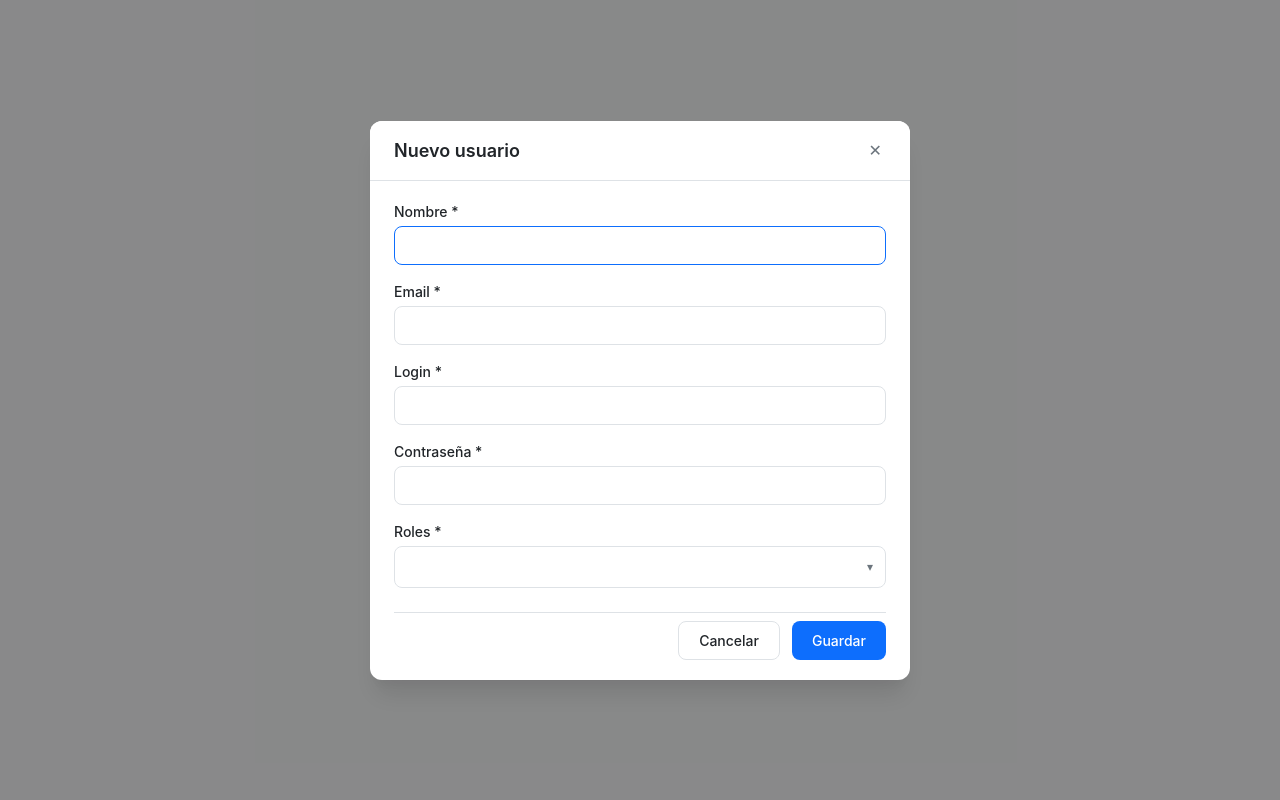
Test: RbacUserModal › surfaces the backend message verbatim when the server rejects with PASSWORD_POLICY
Type "Juan Mosca" into the field labelled "Nombre *" at (640, 245), box [394,226,886,264]
Type "juanmosca@ipnext.net.ar" into the field labelled "Email *" at (640, 325), box [394,306,886,344]
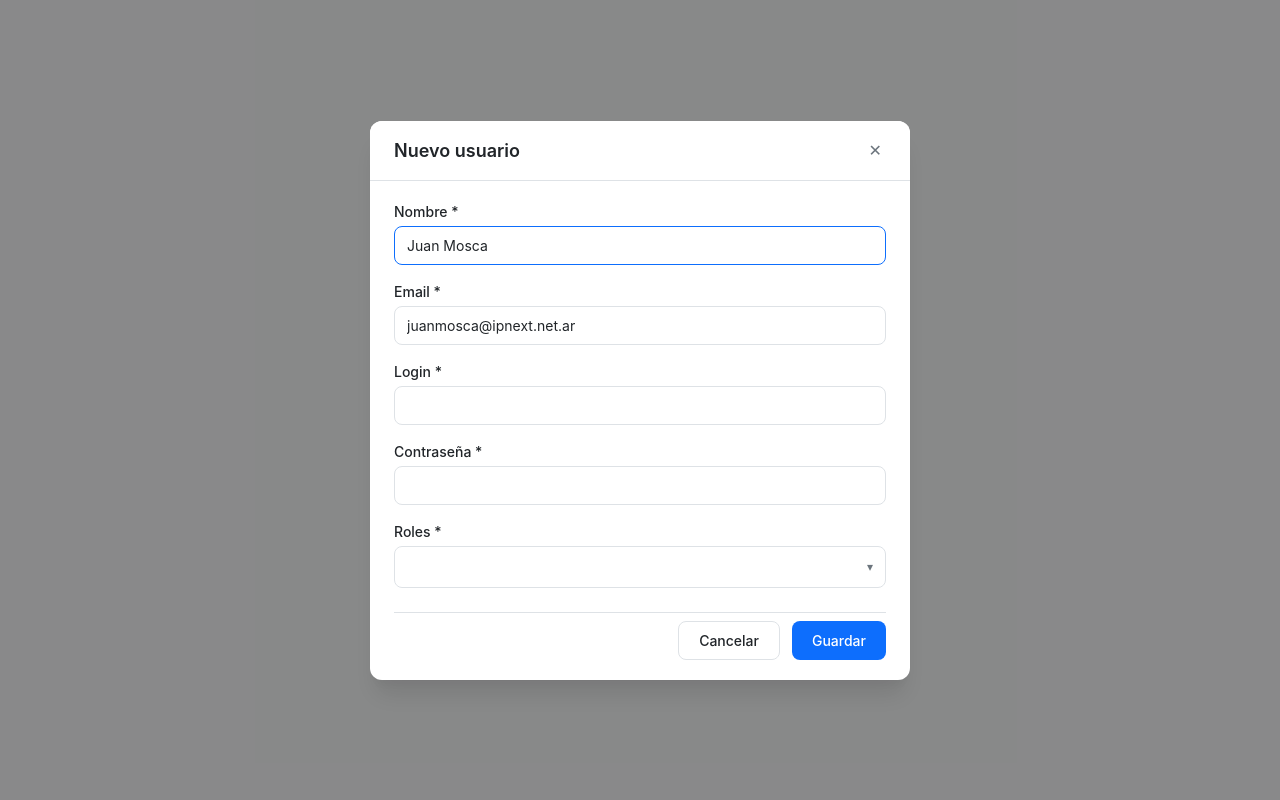
Type "JuanM" into the field labelled "Login *" at (640, 405), box [394,386,886,424]
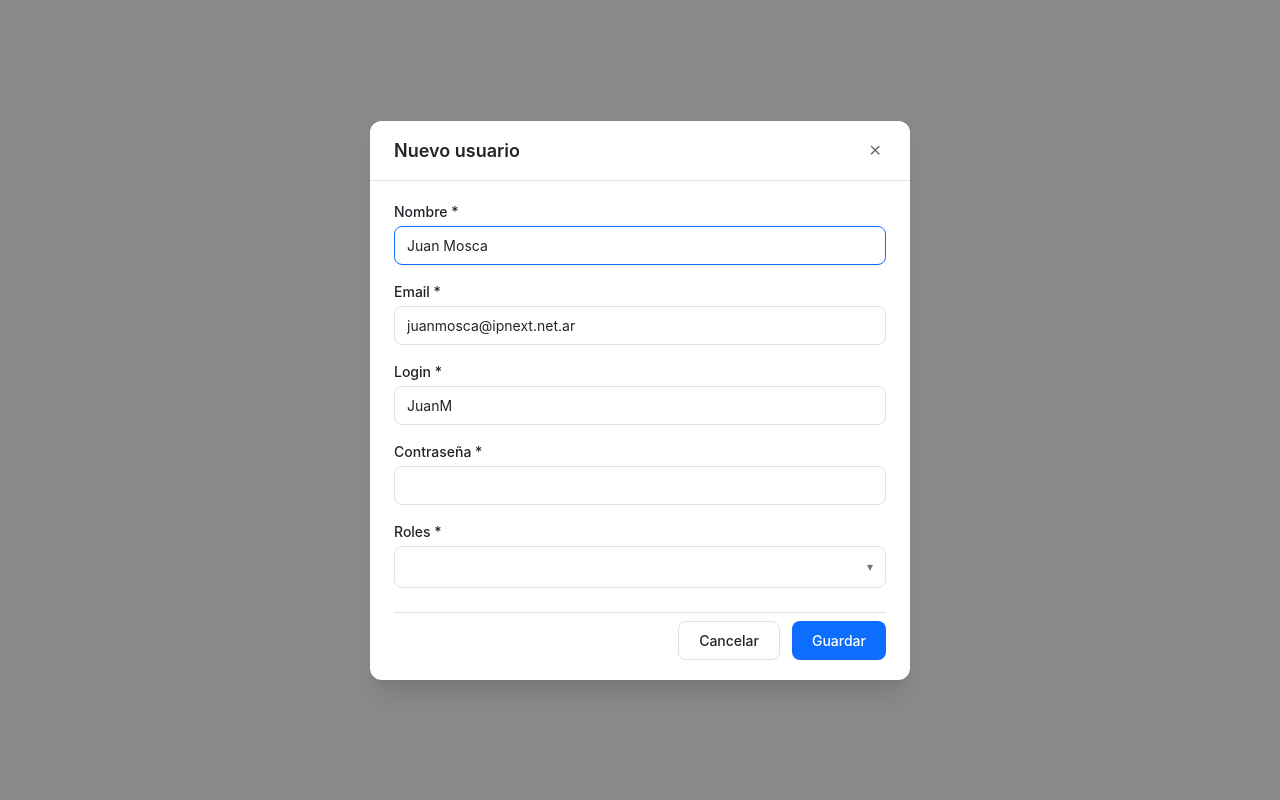
Type "Password123" into the password field labelled "Contraseña *" at (640, 485), box [394,466,886,504]
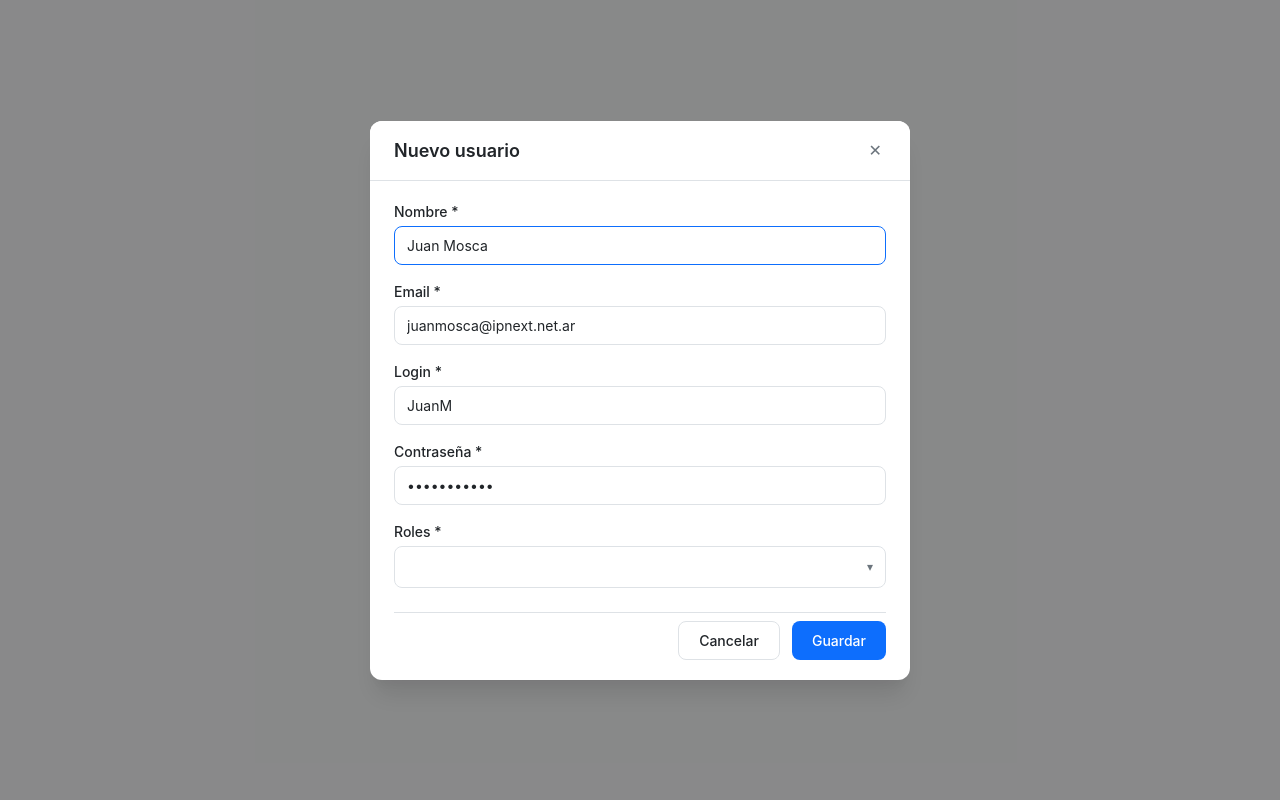
Click the button named "seleccionar roles" at (870, 566), box [863,558,877,576]
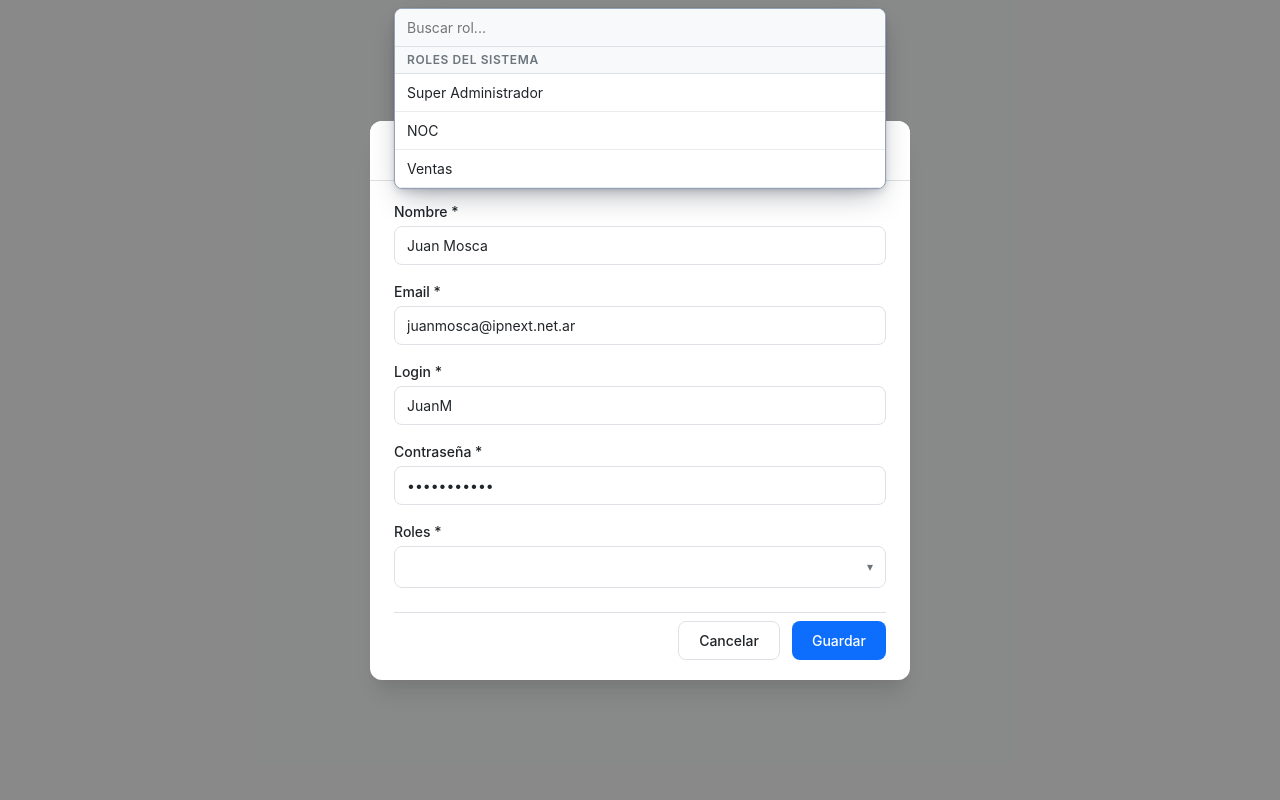
Click the option "NOC" at (423, 130), box [395,112,885,150]
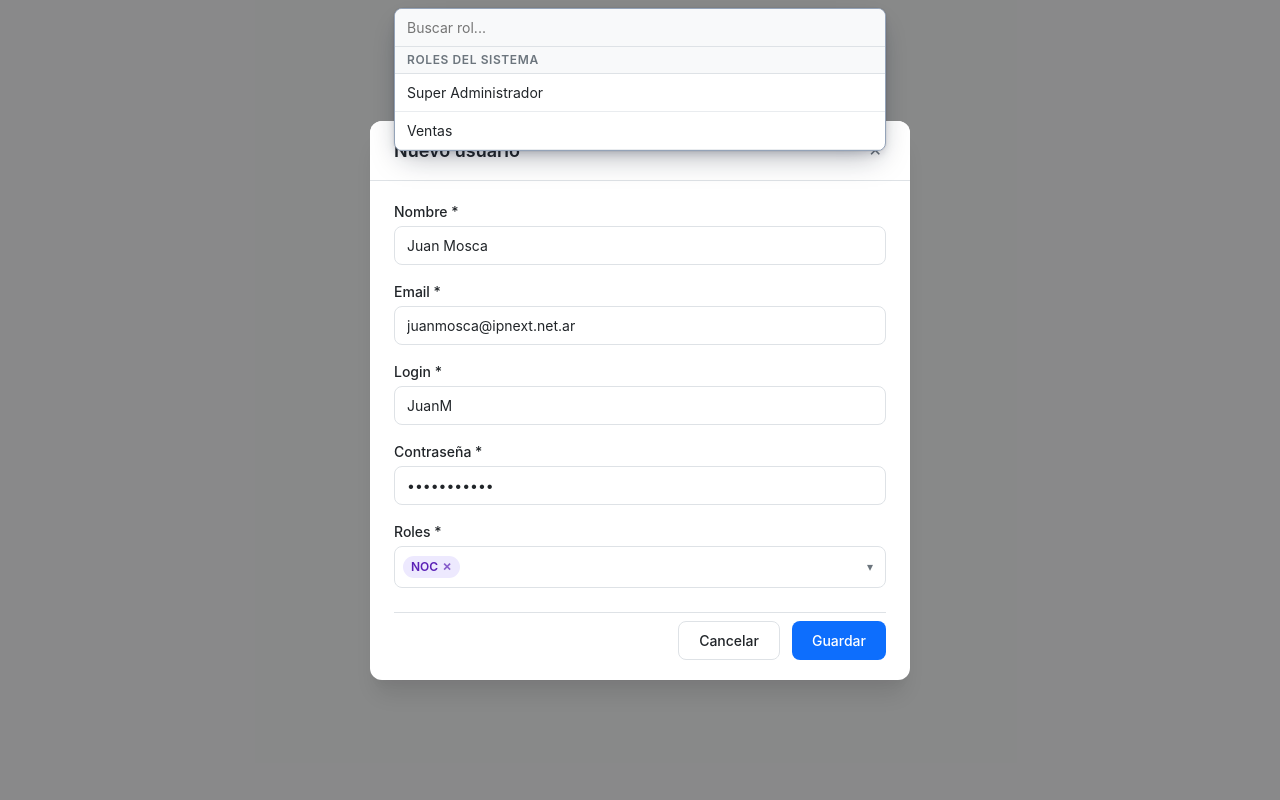
Click the button "Guardar" at (839, 640), box [792,620,886,660]
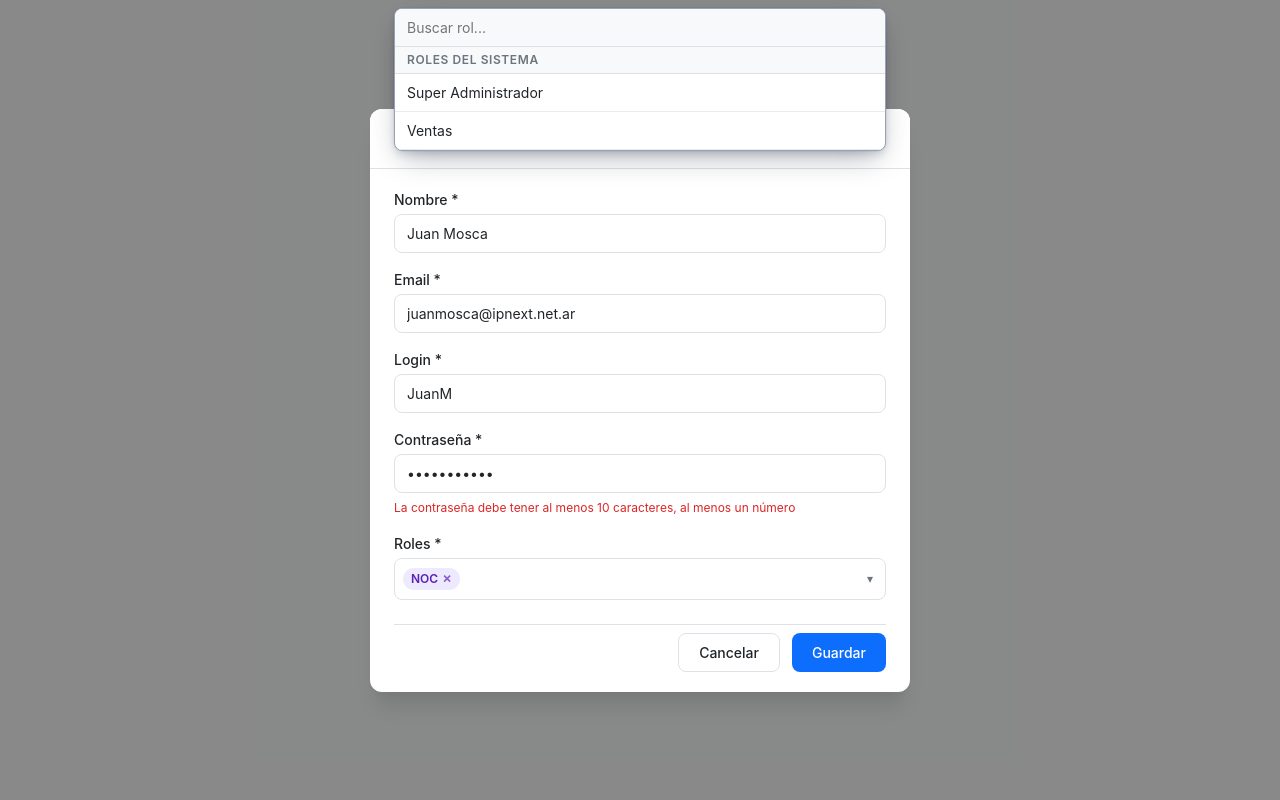
expect the text "La contraseña debe tener al menos 10 caracteres, al menos un número" is shown: met, box [394,500,795,514]
